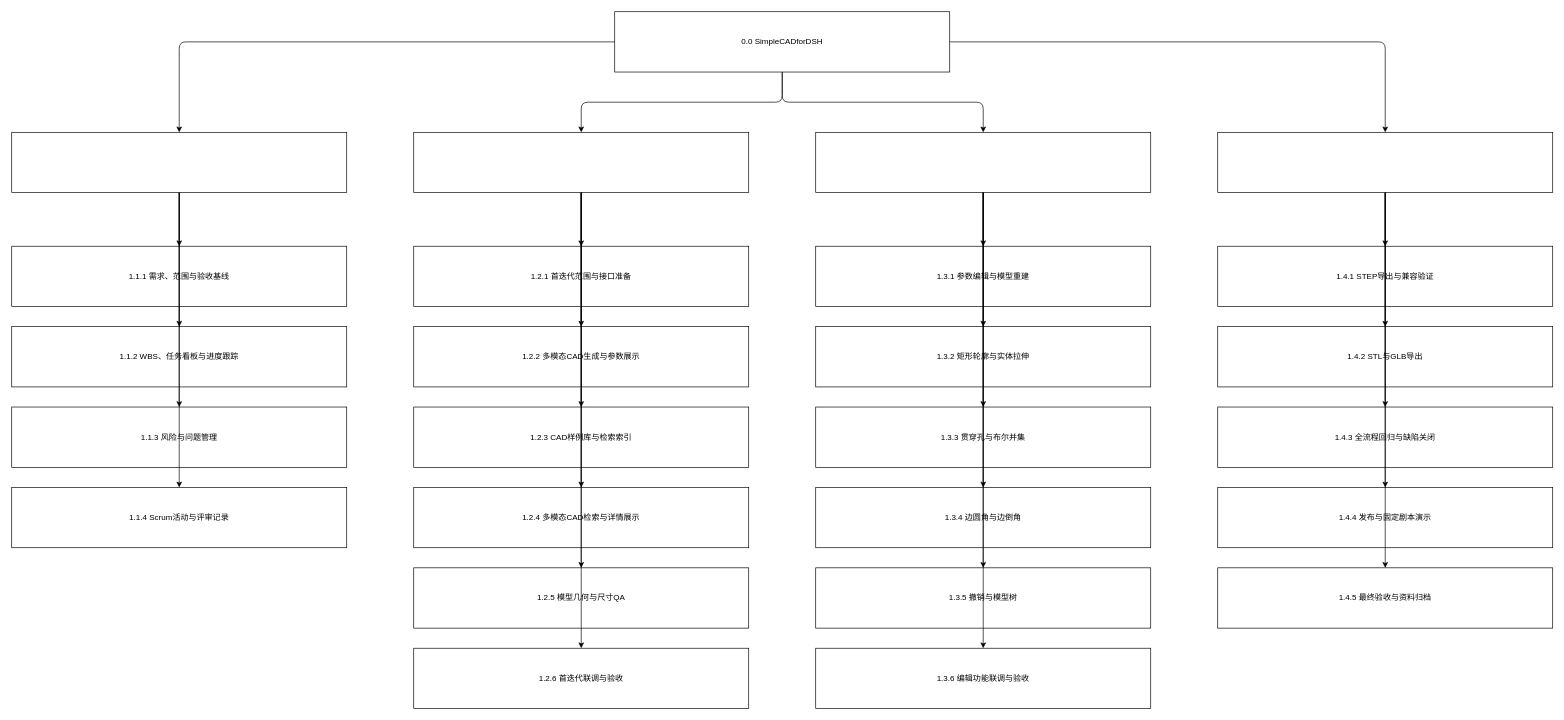
This 1564x720 diagram has some shape labels left out. The shapes that lost their labels are listed below. From the top down, each one's centre as x and y in pixels, then its label:
At (x=179, y=162): "1.1 项目管理与过程资料".
At (x=581, y=162): "1.2 生成、检索与QA成果".
At (x=983, y=162): "1.3 参数编辑与基础CAD操作成果".
At (x=1385, y=162): "1.4 导出、演示与项目交付成果".
